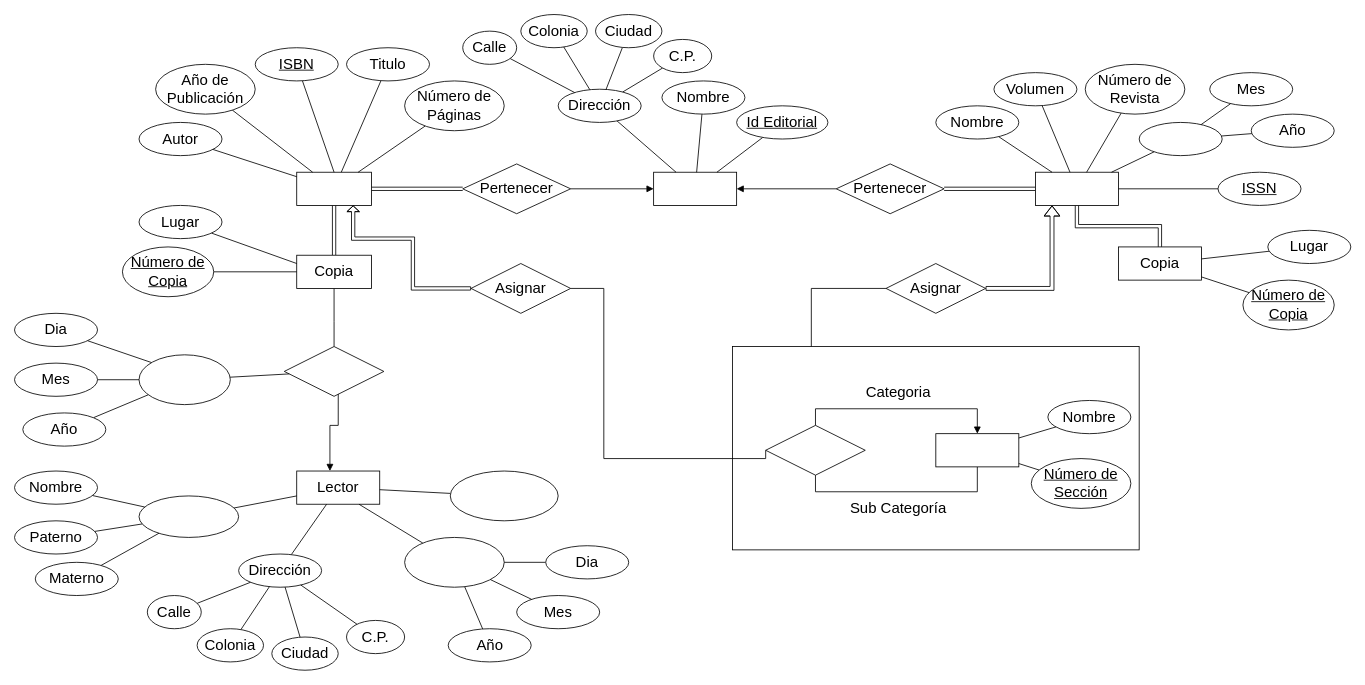
This 1365x685 diagram has some shape labels left out. Here are the shapes that lost their labels. From the top down, the box of each, then its label:
(1138, 122, 1222, 156): Fecha
(296, 171, 371, 205): Libro
(653, 171, 737, 205): Editorial
(1035, 171, 1118, 205): Revista
(138, 354, 230, 405): Fecha Devolución
(283, 346, 384, 396): Prestar
(765, 425, 865, 475): Contener
(935, 433, 1019, 467): Sección
(449, 470, 558, 521): Número de Lector
(138, 495, 239, 537): Nombre Completo
(404, 537, 504, 587): Fecha Nacimiento
